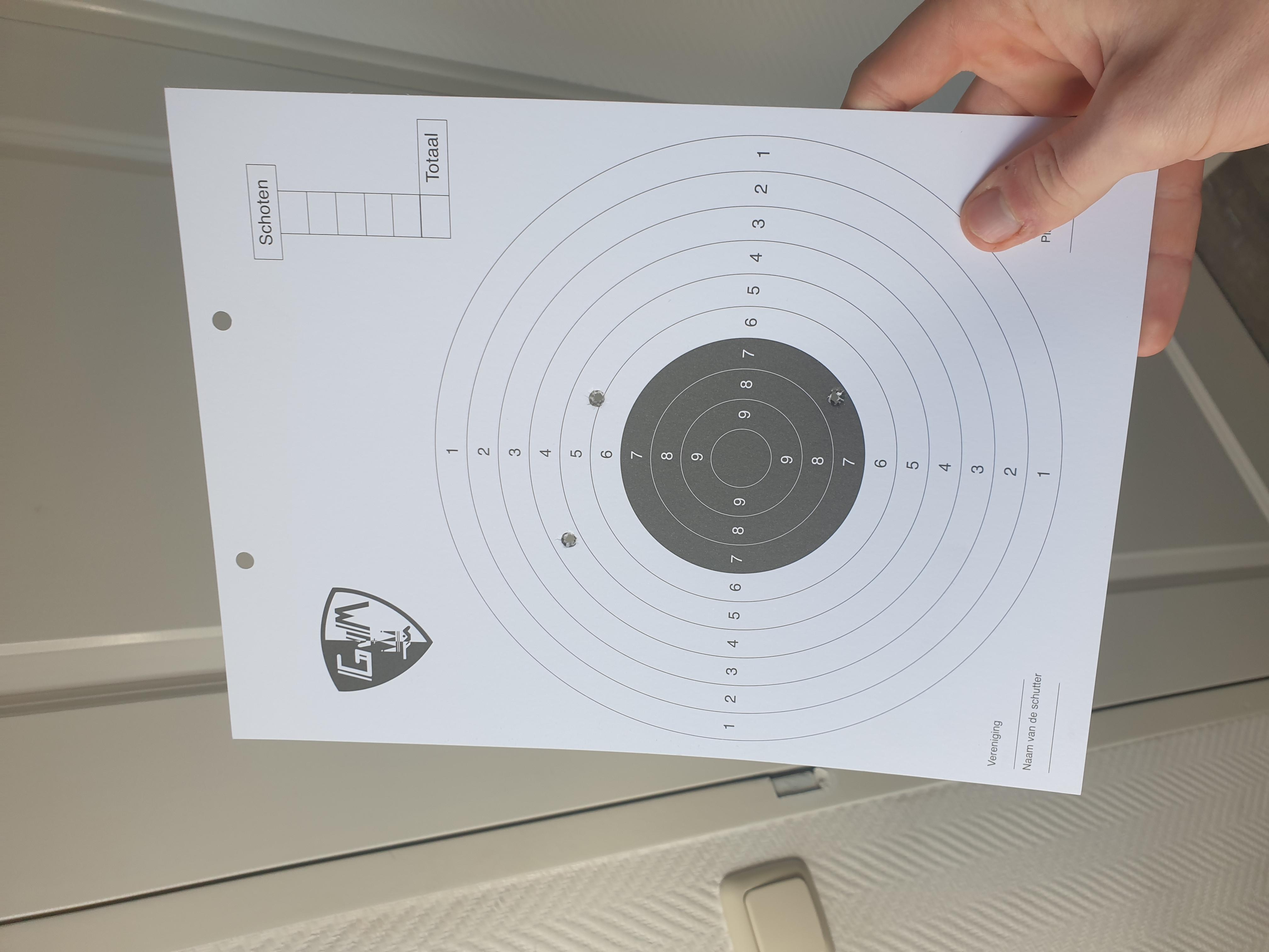hole: (723, 439, 751, 455), (725, 619, 753, 635), (536, 419, 561, 434)
